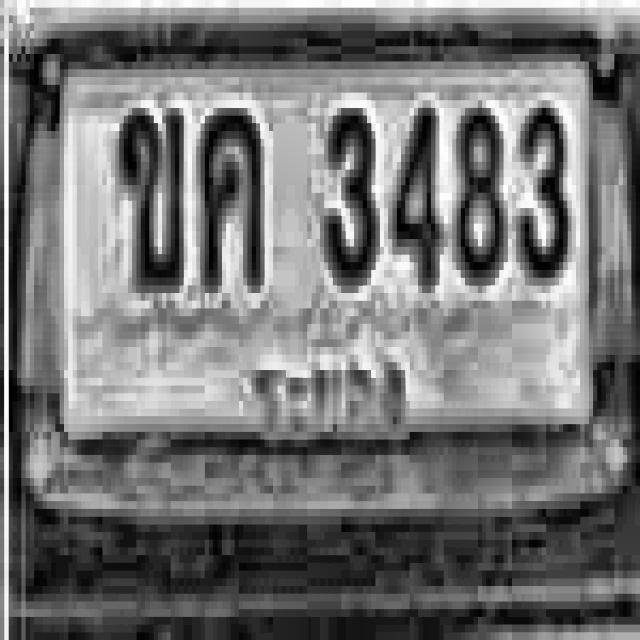license-plate: (17, 0, 640, 521)
